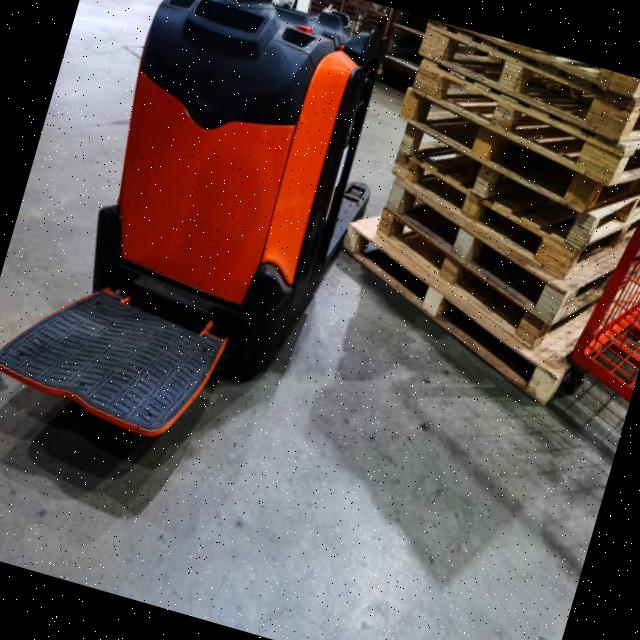Wooden-Pallets: (335, 210, 560, 417), (372, 167, 571, 334), (405, 56, 627, 193), (397, 120, 600, 257)
